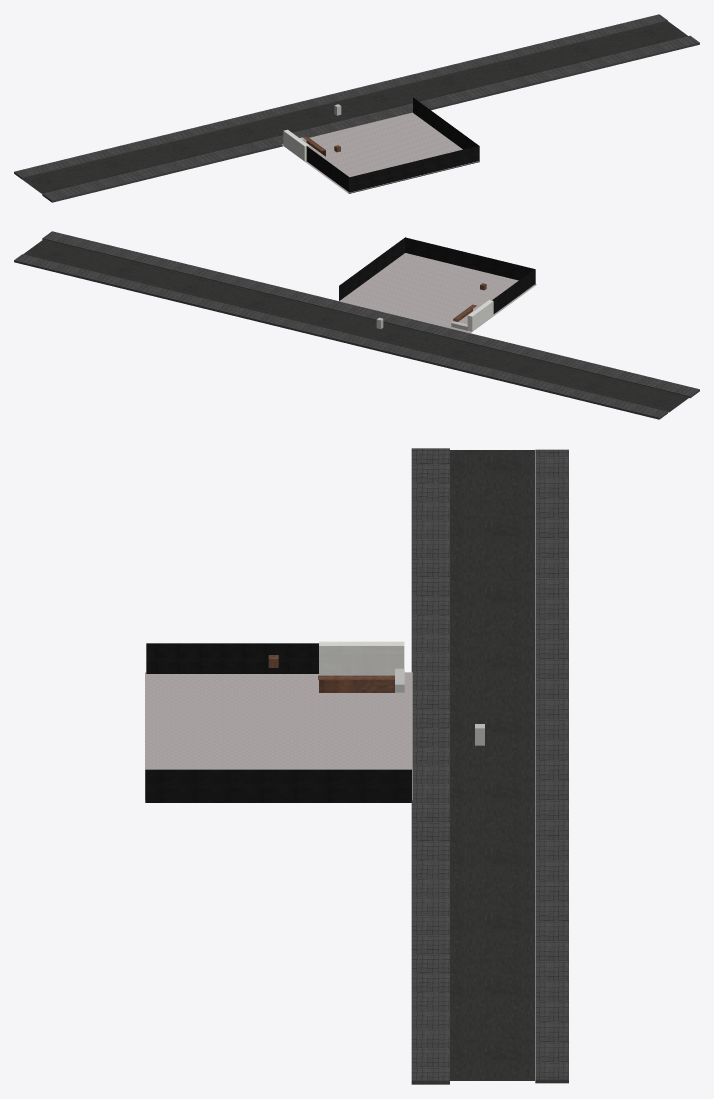
File: Carrefur.obj
3 renders of one model, top to bottom at view 1: azimuth 30°, elevation 25°; view 2: azimuth 150°, elevation 25°; view 3: azimuth 270°, elevation 25°, orthographic. The views are drawn at different scales.
Parts seen in each view (by area): view 1: La_misma_bereda, Calle, Piso_Carre, Pared_Negra.001, Pared_blanca; view 2: La_misma_bereda, Calle, Piso_Carre, Pared_Negra.001, Pared_blanca; view 3: Calle, La_misma_bereda, Piso_Carre, Pared_Negra.001, Pared_blanca, Cubo.001.
Part boxes in pixels (x1,y1,x2,y2): La_misma_bereda: (14,14,699,202); Calle: (22,21,687,193); Piso_Carre: (281,112,478,193); Pared_Negra.001: (306,97,479,193); Pared_blanca: (283,129,309,161); La_misma_bereda: (14,231,699,419); Calle: (23,239,689,412); Piso_Carre: (339,253,536,333); Pared_Negra.001: (339,237,535,313); Pared_blanca: (467,300,493,331); Calle: (450,450,534,1080); La_misma_bereda: (411,448,568,1084); Piso_Carre: (145,672,412,800); Pared_Negra.001: (145,643,411,802); Pared_blanca: (319,641,404,675); Cubo.001: (318,675,394,692).
Bounding box in the file's own units: 303 × 9.02 × 85.92.
